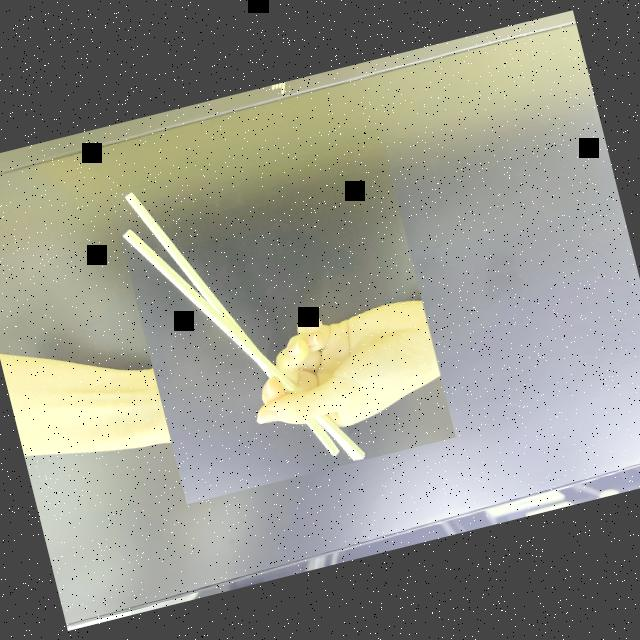stick: (110, 126, 456, 504)
